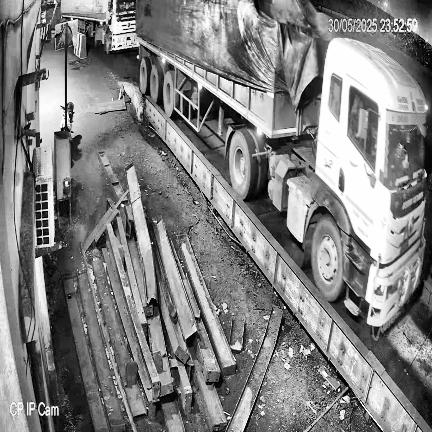tyre: (311, 215, 344, 301), (230, 128, 258, 199), (150, 63, 163, 103), (163, 71, 174, 117), (140, 57, 151, 94)
